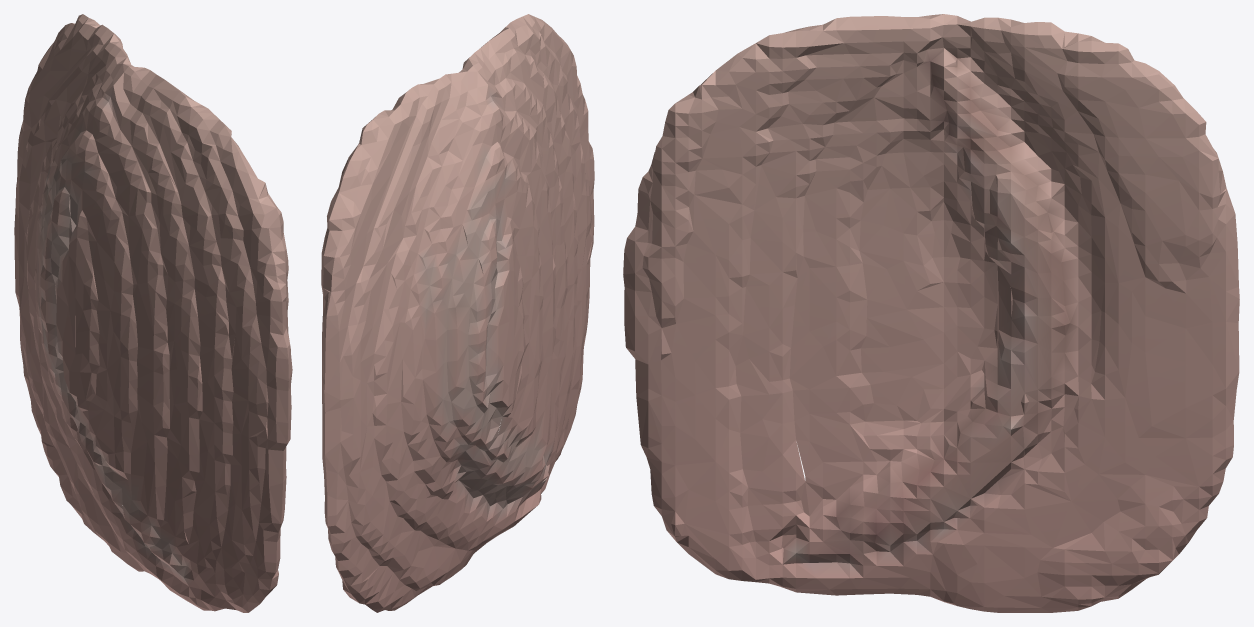
File: worm.glb
3 views of the same model, side by side, from view 1: azimuth 30°, elevation 25°; view 2: azimuth 150°, elevation 25°; view 3: azimuth 270°, elevation 25° (orthographic). The views are drawn at different scales.
Visible parts, largest first — view 1: world; view 2: world; view 3: world.
Boxes of the visible parts, x1,y1,x2,y2 form: world: (14,14,292,612); world: (321,14,594,612); world: (623,14,1239,612).
Size of the model in its own units: 0.0213 by 0.12 by 0.1134.
